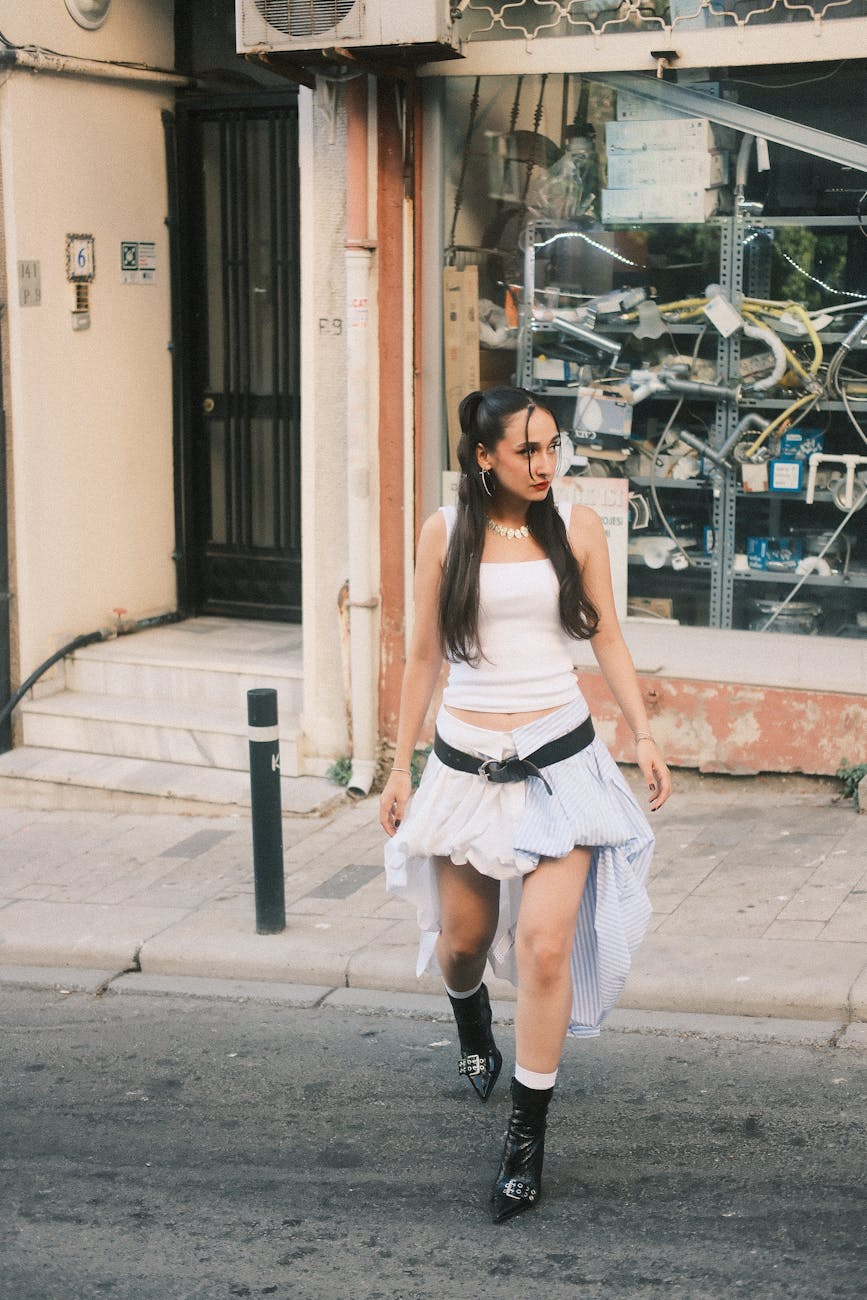crop_top: (426, 510, 603, 751)
short_medium_skirt: (382, 738, 645, 882)
